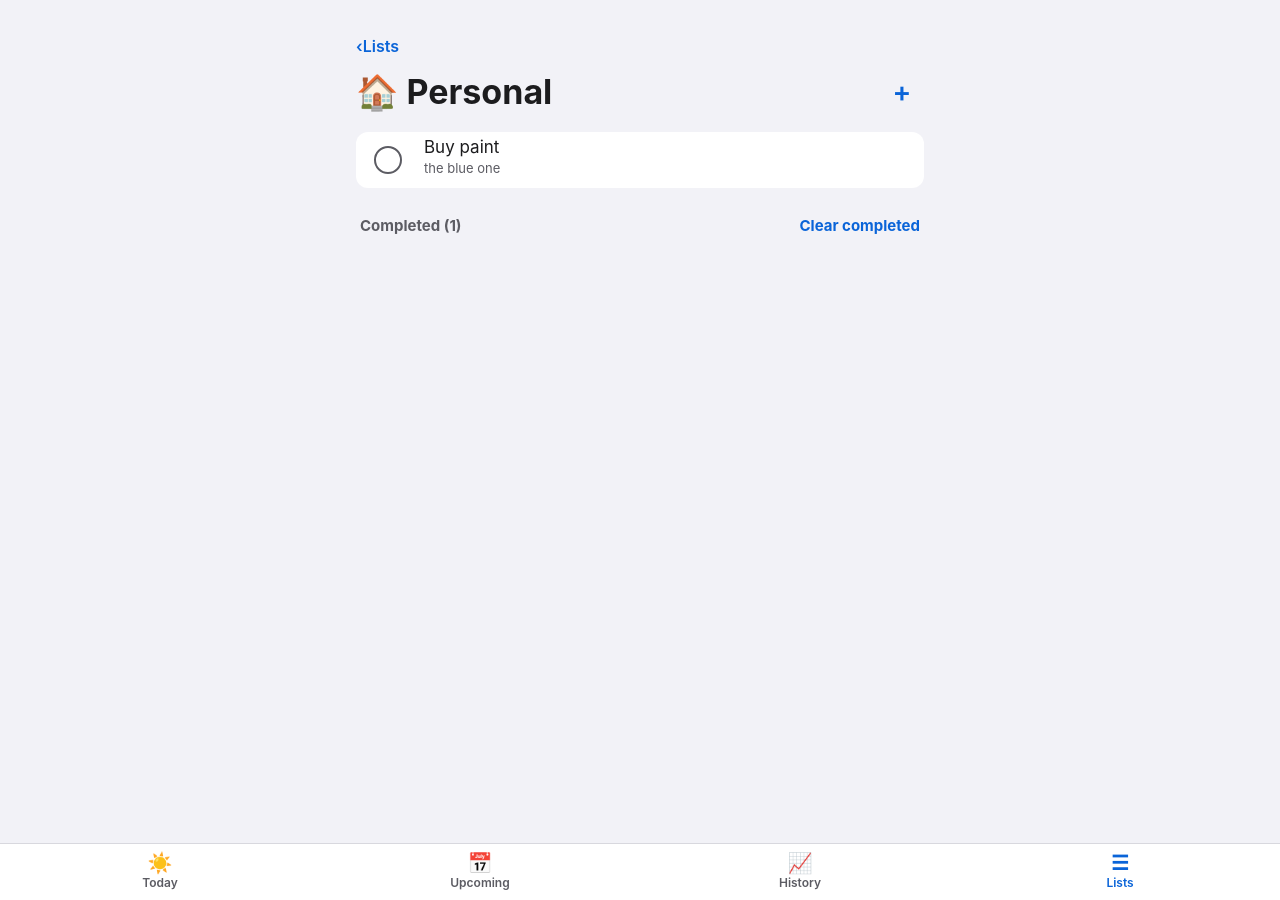
showing notes › shows notes on a list page, including completed to-dos
Check: the text "the blue one" is shown, box [424, 160, 500, 176]
Click the button "Completed (1)".
click(411, 226)  # box [356, 204, 466, 248]
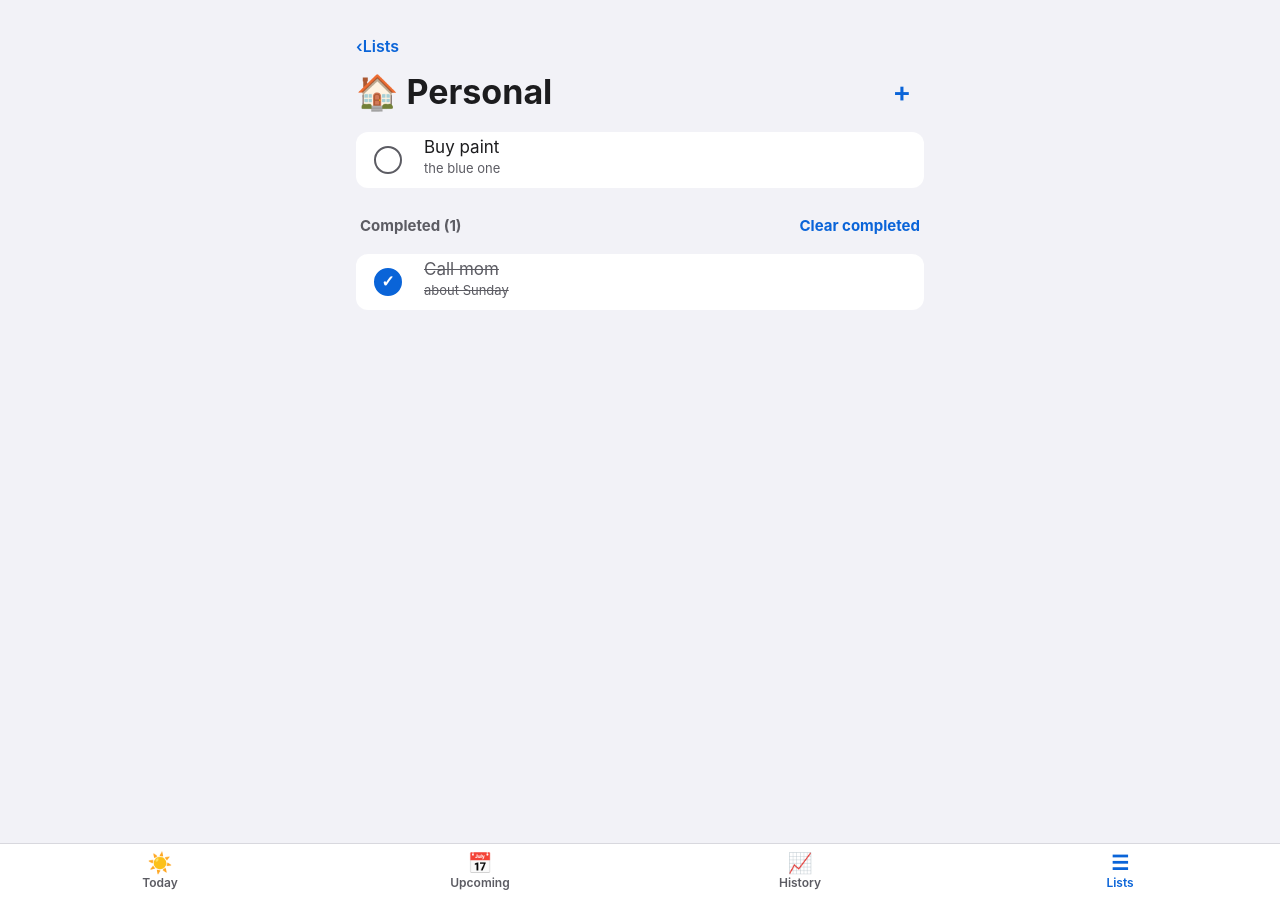
Check: the text "about Sunday" is shown, box [424, 282, 509, 298]
